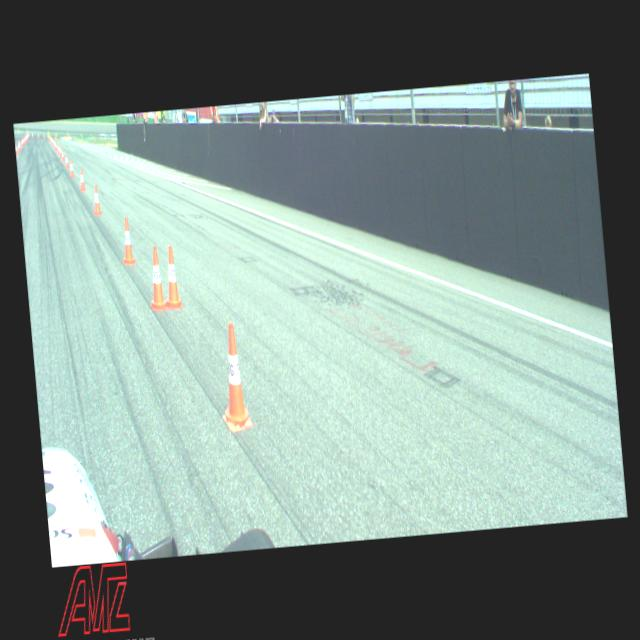orange_cone: (214, 322, 252, 433), (144, 245, 168, 310), (162, 244, 182, 309), (118, 217, 136, 266), (90, 184, 102, 215), (78, 168, 86, 190), (68, 158, 75, 177), (64, 152, 68, 168), (60, 148, 64, 162), (15, 142, 18, 156), (56, 143, 60, 153), (17, 140, 20, 152), (54, 142, 58, 151), (58, 145, 61, 156), (21, 137, 24, 146), (52, 138, 54, 148), (22, 136, 24, 144), (24, 136, 26, 142)
